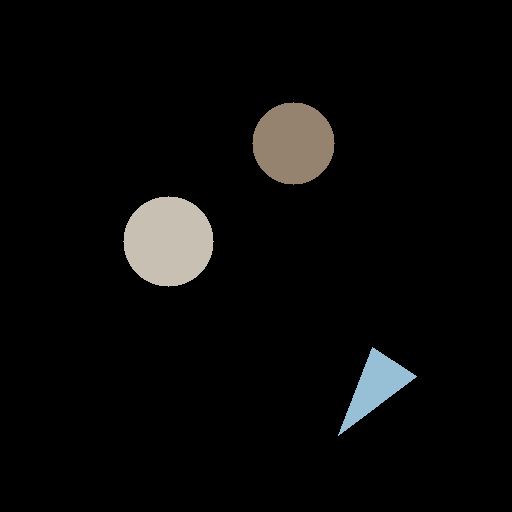circle: (123, 196, 213, 286), (252, 102, 334, 184)
triangle: (338, 347, 416, 435)
